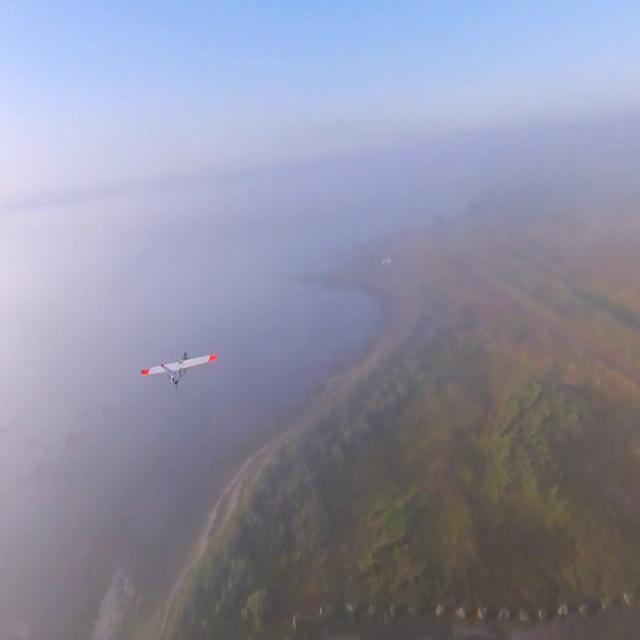iha: (173, 348, 186, 394)
